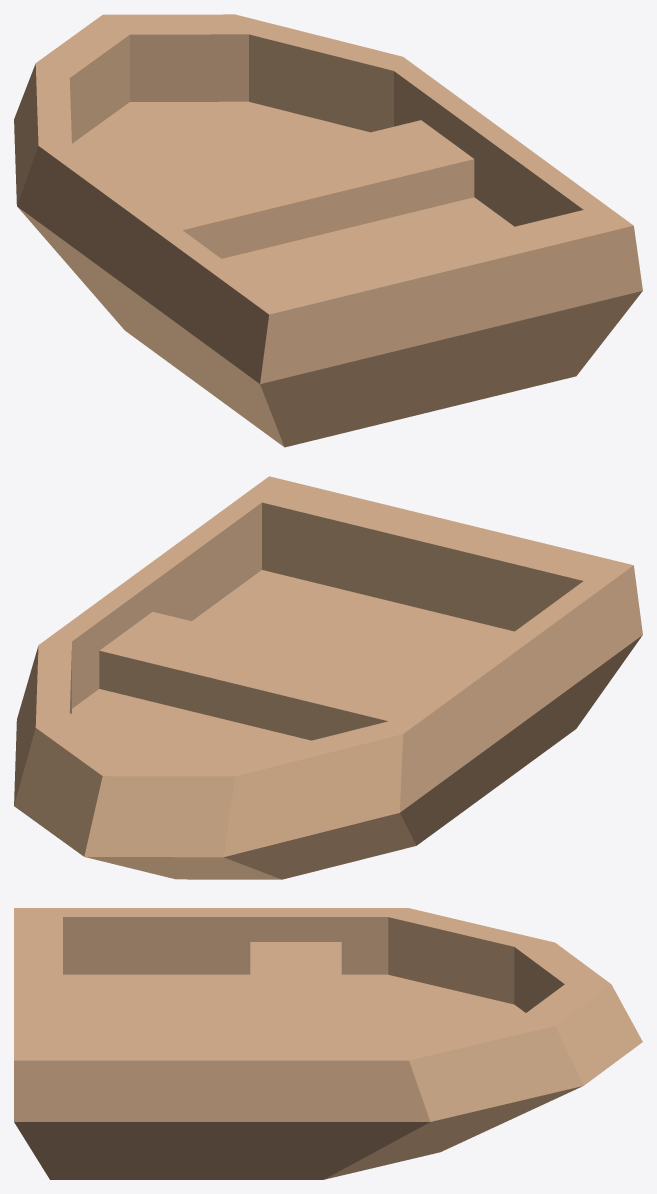
File: boat_small.gltf
3 views of the same model, one above another, from view 1: azimuth 30°, elevation 25°; view 2: azimuth 150°, elevation 25°; view 3: azimuth 270°, elevation 25° (orthographic). The views are drawn at different scales.
Visible parts, largest first — view 1: boat_small_8angles; view 2: boat_small_8angles; view 3: boat_small_8angles.
Boxes of the visible parts, bbox=[...] form: boat_small_8angles: bbox=[14, 14, 642, 447]; boat_small_8angles: bbox=[14, 476, 642, 879]; boat_small_8angles: bbox=[14, 908, 642, 1179].
Size of the model in its own units: 0.8925 by 0.35 by 1.48.
